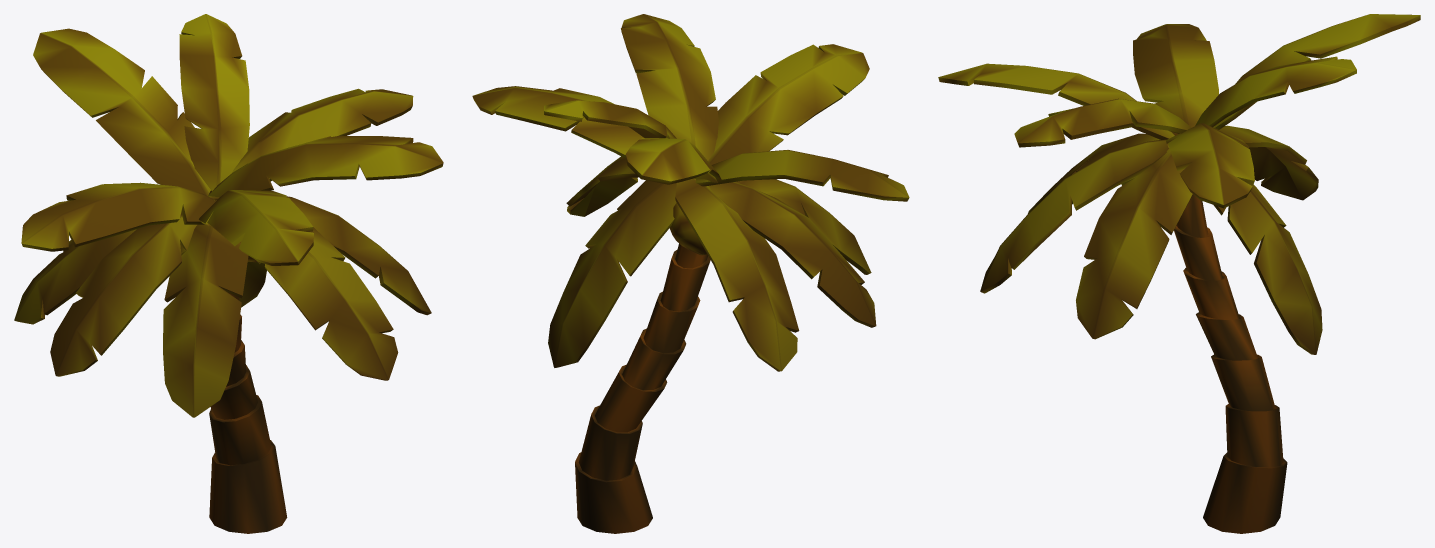
The model's file is Farm_Crop_Coconut_Tree_02_Dead.fbx.
3 renders of one model, left to right at view 1: azimuth 30°, elevation 25°; view 2: azimuth 150°, elevation 25°; view 3: azimuth 270°, elevation 25°, orthographic. The views are drawn at different scales.
Visible parts, largest first — view 1: Farm_Crop_Coconut_Tree_02_Dead; view 2: Farm_Crop_Coconut_Tree_02_Dead; view 3: Farm_Crop_Coconut_Tree_02_Dead.
Boxes of the visible parts, left/top/right/bottom form: Farm_Crop_Coconut_Tree_02_Dead: left=14, top=14, right=443, bottom=533; Farm_Crop_Coconut_Tree_02_Dead: left=472, top=14, right=909, bottom=533; Farm_Crop_Coconut_Tree_02_Dead: left=938, top=14, right=1420, bottom=533.
Bounding box in the file's own units: 404 × 420 × 404.
